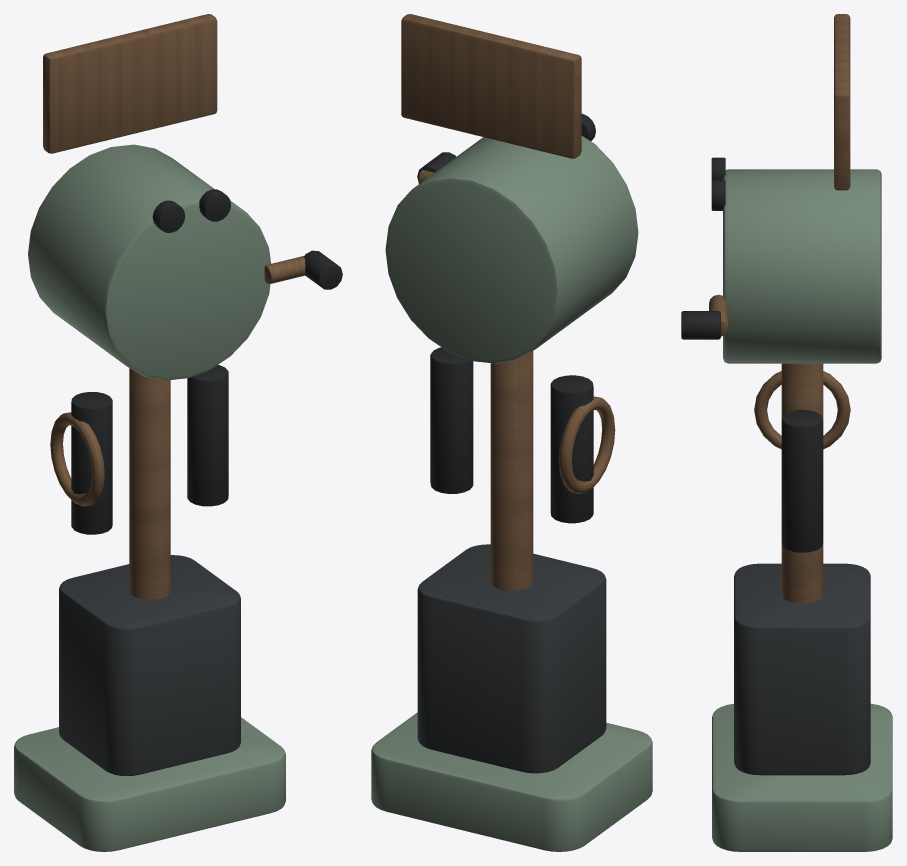
Rendered from ball_washer_high_end.glb.
3 views of the same model, side by side, from view 1: azimuth 30°, elevation 25°; view 2: azimuth 150°, elevation 25°; view 3: azimuth 270°, elevation 25° (orthographic). The views are drawn at different scales.
Parts seen in each view (by area): view 1: BallWasher_Drum, BallWasher_WasteBin, BallWasher_Base, BallWasher_Sign, BallWasher_Post, BallWasher_ClubBrush_1, BallWasher_ClubBrush_-1, BallWasher_TowelRing, BallWasher_CrankGrip, BallWasher_CrankShaft, BallWasher_Port_1, BallWasher_Port_2; view 2: BallWasher_Drum, BallWasher_WasteBin, BallWasher_Base, BallWasher_Sign, BallWasher_Post, BallWasher_ClubBrush_1, BallWasher_ClubBrush_-1, BallWasher_TowelRing; view 3: BallWasher_Drum, BallWasher_WasteBin, BallWasher_Base, BallWasher_ClubBrush_1, BallWasher_Post, BallWasher_Sign, BallWasher_TowelRing, BallWasher_CrankGrip, BallWasher_CrankShaft, BallWasher_Port_2.
Boxes of the visible parts, left/top/right/bottom form: BallWasher_Drum: left=28, top=144, right=271, bottom=380; BallWasher_WasteBin: left=59, top=555, right=240, bottom=776; BallWasher_Base: left=14, top=717, right=285, bottom=851; BallWasher_Sign: left=43, top=14, right=217, bottom=153; BallWasher_Post: left=129, top=368, right=170, bottom=599; BallWasher_ClubBrush_1: left=187, top=365, right=228, bottom=506; BallWasher_ClubBrush_-1: left=71, top=392, right=112, bottom=534; BallWasher_TowelRing: left=50, top=412, right=104, bottom=506; BallWasher_CrankGrip: left=304, top=250, right=342, bottom=289; BallWasher_CrankShaft: left=264, top=256, right=305, bottom=283; BallWasher_Port_1: left=152, top=200, right=185, bottom=232; BallWasher_Port_2: left=199, top=189, right=230, bottom=221; BallWasher_Drum: left=385, top=135, right=638, bottom=363; BallWasher_WasteBin: left=417, top=544, right=606, bottom=773; BallWasher_Base: left=371, top=712, right=652, bottom=851; BallWasher_Sign: left=401, top=14, right=581, bottom=158; BallWasher_Post: left=490, top=351, right=533, bottom=590; BallWasher_ClubBrush_1: left=430, top=347, right=473, bottom=493; BallWasher_ClubBrush_-1: left=550, top=375, right=593, bottom=523; BallWasher_TowelRing: left=559, top=396, right=615, bottom=493; BallWasher_Drum: left=723, top=169, right=881, bottom=363; BallWasher_WasteBin: left=734, top=563, right=870, bottom=775; BallWasher_Base: left=712, top=703, right=892, bottom=851; BallWasher_ClubBrush_1: left=781, top=409, right=823, bottom=552; BallWasher_Post: left=781, top=363, right=823, bottom=603; BallWasher_Sign: left=834, top=14, right=850, bottom=190; BallWasher_TowelRing: left=754, top=371, right=850, bottom=449; BallWasher_CrankGrip: left=681, top=311, right=720, bottom=339; BallWasher_CrankShaft: left=709, top=294, right=728, bottom=336; BallWasher_Port_2: left=711, top=180, right=725, bottom=210.
Size of what is drawn, in the model's own units: 0.4176 by 1.28 by 0.3264.
Materials: 4 (1 with a texture image).
